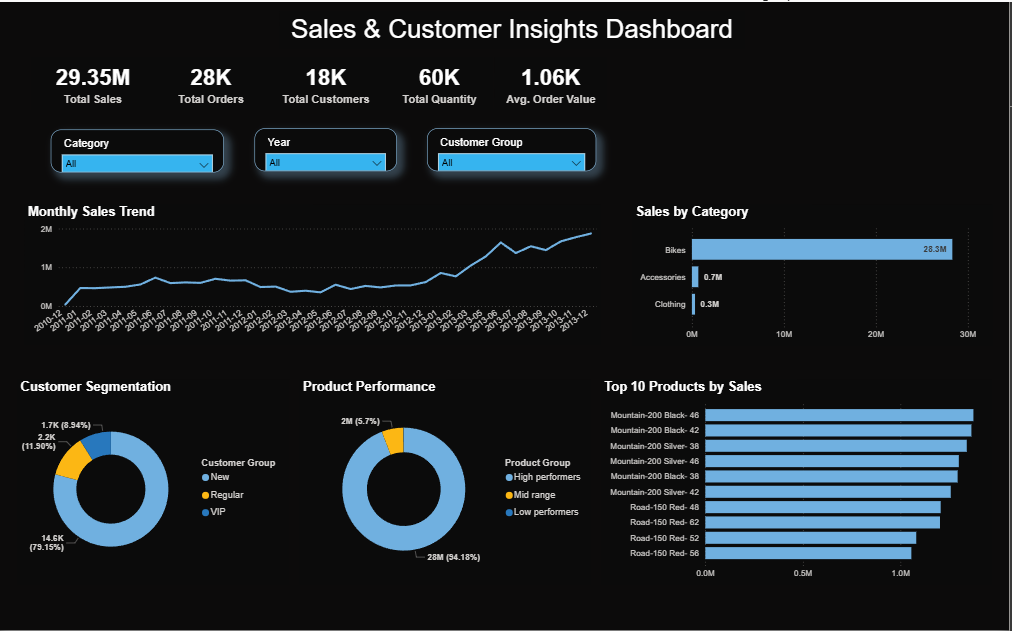

What the dashboard file says about the page in this screenshot:
{"tool":"powerbi","page":{"name":"Page 1","canvas":[1450,900],"ordinal":0},"visuals":[{"type":"card","fields":{"Values":["gold fact_sales.total sales"]},"box":[48.4,79,178.8,74.9],"z":0},{"type":"card","fields":{"Values":["gold fact_sales.Total Orders"]},"box":[227.6,79,159,74.9],"z":1000},{"type":"card","fields":{"Values":["gold fact_sales.Total Customers"]},"box":[387,79,169.7,74.9],"z":2000},{"type":"card","fields":{"Values":["gold fact_sales.Total Quantity"]},"box":[557,79,154.4,74.9],"z":3000},{"type":"card","fields":{"Values":["gold fact_sales.Average Order Value"]},"box":[711.8,79,162,74.9],"z":4000},{"type":"lineChart","title":"Monthly Sales Trend","fields":{"Category":["DateTable.Year Month"],"Y":["gold fact_sales.Total Sales"]},"box":[38.8,290.4,825.2,202],"z":5000},{"type":"clusteredBarChart","title":"Sales by Category","fields":{"Y":["gold fact_sales.Total Sales"],"Category":["gold report_products.category"]},"box":[909.6,290.1,515.7,202.3],"z":6000},{"type":"donutChart","title":"Customer Segmentation","fields":{"Category":["gold report_customers.cust_group"],"Y":["gold fact_sales.Total Customers"]},"box":[28.6,540.8,390.3,293.7],"z":7000},{"type":"donutChart","title":"Product Performance","fields":{"Category":["gold report_products.product_group"],"Y":["gold fact_sales.Total Sales"]},"box":[433.3,540.8,417.2,293.7],"z":8000},{"type":"barChart","title":"Top 10 Products by Sales","fields":{"Category":["gold report_products.product_name"],"Y":["gold fact_sales.Total Sales"]},"box":[864.8,540.8,560.4,293.7],"z":9000},{"type":"slicer","fields":{"Values":["gold report_products.category","gold report_products.subcategory"]},"box":[77.7,182.2,248.1,61.6],"z":11000},{"type":"slicer","fields":{"Values":["gold report_customers.cust_group"]},"box":[615.9,181.7,242.4,61.6],"z":12000},{"type":"slicer","fields":{"Values":["DateTable.Year"]},"box":[369.1,181.7,203.9,61.6],"z":13000},{"type":"textbox","box":[404.7,12.5,666.1,55.5],"z":14000}]}

Visuals, with their boxes in screenshot pixels (x1, y1, x2, y2), scaled from the page's 1450x900 canvas onto the 1012x631 screenshot:
card - gold fact_sales.total sales: (34,55,159,108)
card - gold fact_sales.Total Orders: (159,55,270,108)
card - gold fact_sales.Total Customers: (270,55,389,108)
card - gold fact_sales.Total Quantity: (389,55,497,108)
card - gold fact_sales.Average Order Value: (497,55,610,108)
"Monthly Sales Trend" lineChart: (27,204,603,345)
"Sales by Category" clusteredBarChart: (635,203,995,345)
"Customer Segmentation" donutChart: (20,379,292,585)
"Product Performance" donutChart: (302,379,594,585)
"Top 10 Products by Sales" barChart: (604,379,995,585)
slicer - gold report_products.category x gold report_products.subcategory: (54,128,227,171)
slicer - gold report_customers.cust_group: (430,127,599,171)
slicer - DateTable.Year: (258,127,400,171)
textbox: (282,9,747,48)
